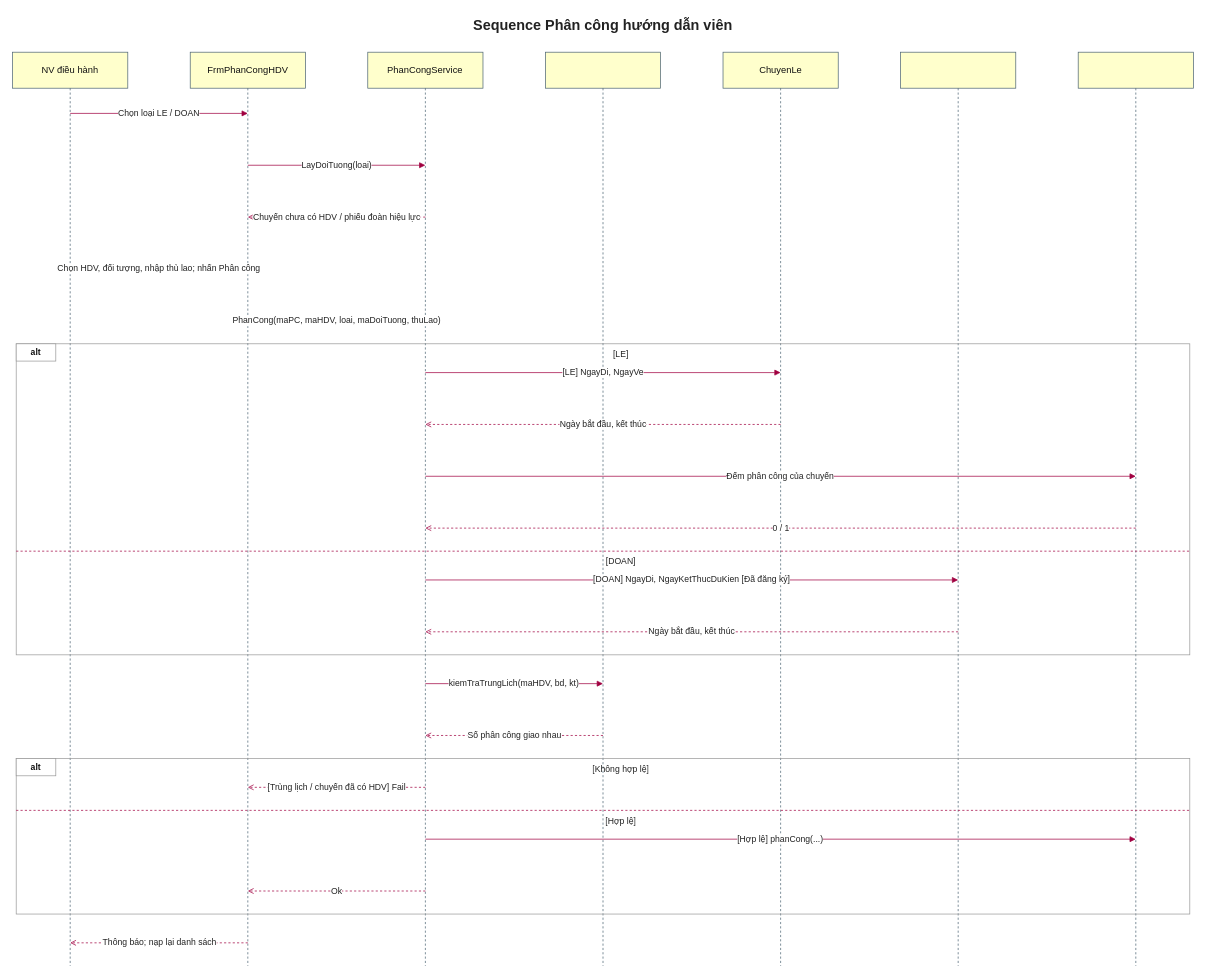
Some shapes in this 1206 by 978 pixel diagram are drawn without their labels. Here are the shapes that lost their labels. From the top down, the box of each, then its label:
(545, 51, 661, 966): HuongDanVien
(900, 51, 1016, 966): PhieuDangKyDoan
(1077, 51, 1193, 966): PhanCong
